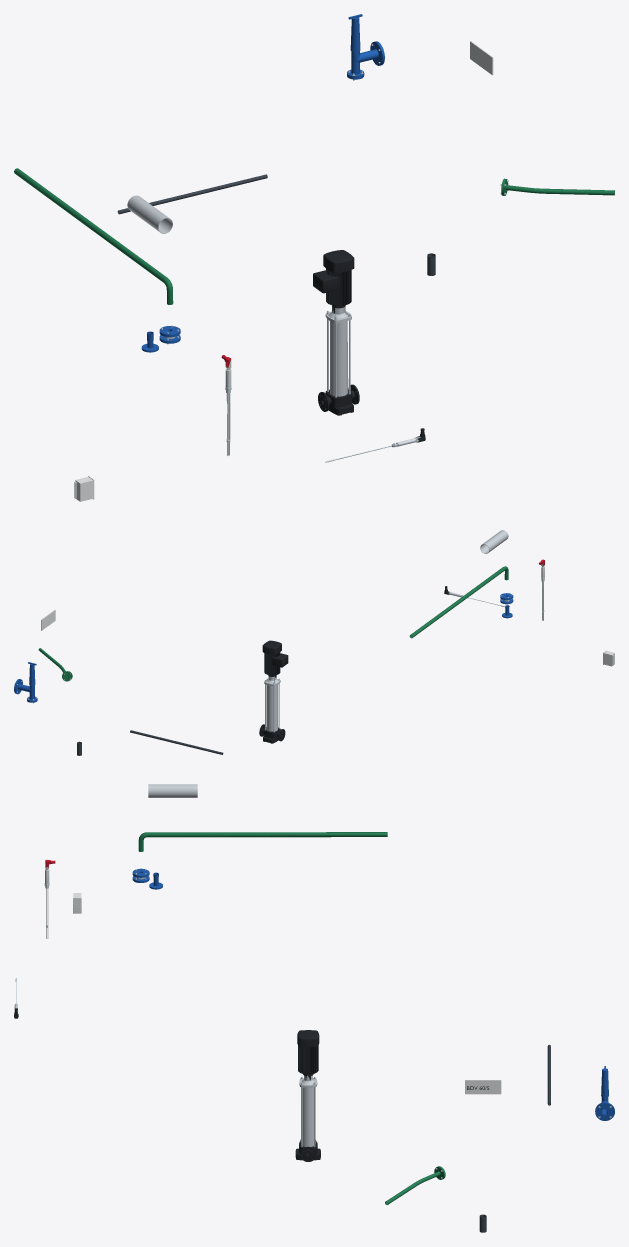
3 views of the same model, one above another, from view 1: azimuth 30°, elevation 25°; view 2: azimuth 150°, elevation 25°; view 3: azimuth 270°, elevation 25° (orthographic). The views are drawn at different scales.
Parts seen in each view (by area): view 1: pump_2 CAD solid 15, direct_inlet / green, pump_2 CAD solid 2, flash_steam_common / blue, gpz_bypass / steel, pump_2 CAD solid 0, bdv_cooling_stub / green; view 2: pump_2 CAD solid 15, direct_inlet / green, pump_2 CAD solid 2, flash_steam_common / blue, gpz_bypass / steel, pump_2 CAD solid 0; view 3: direct_inlet / green, pump_2 CAD solid 15, pump_2 CAD solid 2, gpz_bypass / steel.
Boxes of the visible parts, x1,y1,x2,y2 form: pump_2 CAD solid 15: (313, 250, 354, 306); direct_inlet / green: (14, 168, 173, 304); pump_2 CAD solid 2: (330, 321, 347, 396); flash_steam_common / blue: (347, 14, 384, 79); gpz_bypass / steel: (127, 195, 172, 233); pump_2 CAD solid 0: (318, 384, 359, 415); bdv_cooling_stub / green: (501, 178, 614, 195); pump_2 CAD solid 15: (262, 640, 288, 675); direct_inlet / green: (409, 566, 508, 638); pump_2 CAD solid 2: (266, 685, 277, 731); flash_steam_common / blue: (14, 662, 37, 702); gpz_bypass / steel: (480, 530, 508, 553); pump_2 CAD solid 0: (259, 724, 285, 743); direct_inlet / green: (138, 832, 387, 851); pump_2 CAD solid 15: (297, 1030, 319, 1075); pump_2 CAD solid 2: (301, 1087, 315, 1146); gpz_bypass / steel: (148, 784, 197, 797).
Size of the model in its own units: 5.64 by 2.43 by 4.99.
